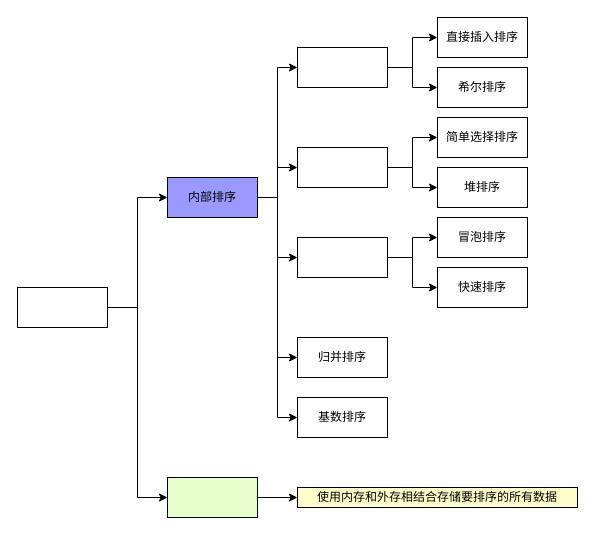
The diagram is 595 pixels wide and 535 high, and some of its shapes have lost their labels. The shapes that lost their labels are listed below. From the top down, each one's box as (x1, y1, x2, y2) in pixels, then its label:
(296, 46, 388, 88): 插入排序
(296, 146, 388, 188): 选择排序
(296, 236, 388, 278): 交换排序
(16, 286, 108, 328): 排序
(166, 476, 258, 518): 外部排序
